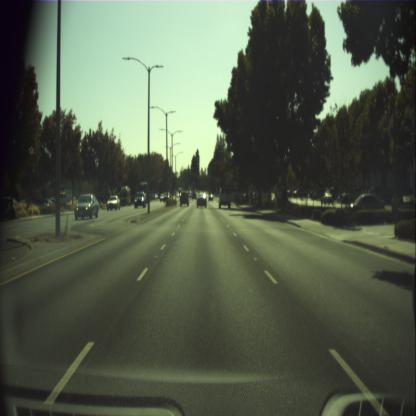Green: (197, 172, 199, 182)
